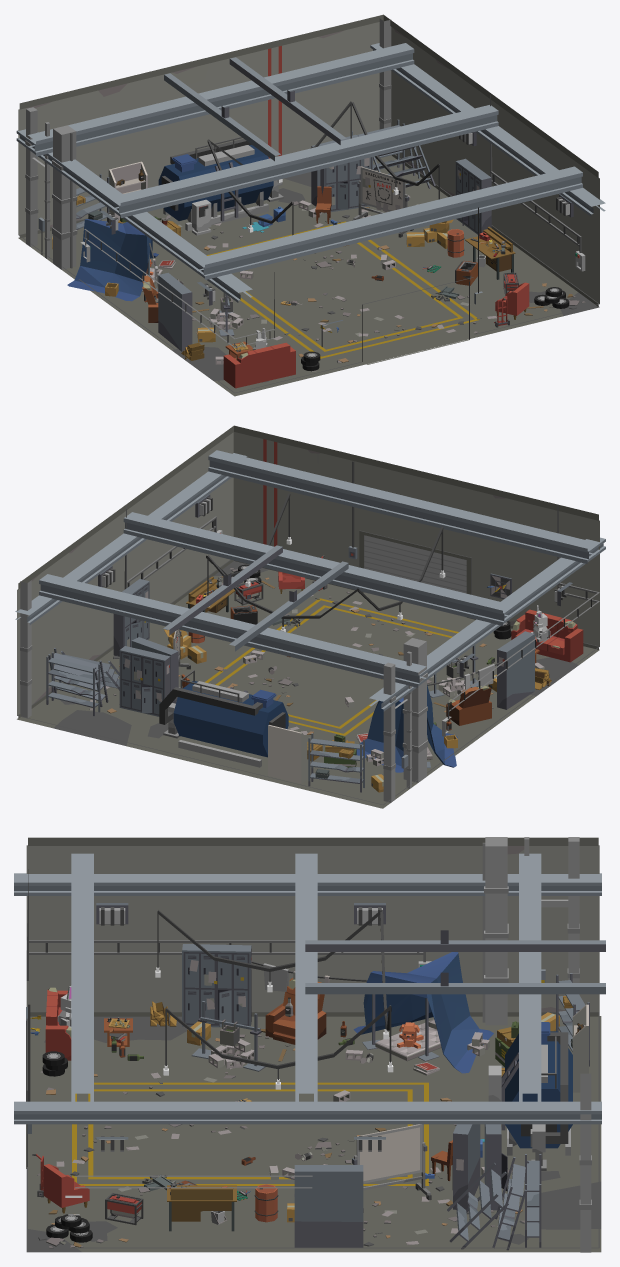
File: garage.glb
3 views of the same model, one above another, from view 1: azimuth 30°, elevation 25°; view 2: azimuth 150°, elevation 25°; view 3: azimuth 270°, elevation 25° (orthographic). The views are drawn at different scales.
Parts seen in each view (by area): view 1: AI_Env_Wall_Full, AI_Env_Floor_Full, AI_Env_Roof_Beam_Full, AI_Prop_Boiler, AI_Prop_Makeshift_Tent_08, AI_Prop_Couch_Damaged_02, AI_Prop_Lockers_05, AI_Prop_Whiteboard, AI_Prop_Lockers_04, AI_Prop_Lockers_02, SA_Prop_Workbench_01, AI_Prop_Shelf_01_Broken (+9 smaller); view 2: AI_Env_Wall_Full, AI_Env_Roof_Beam_Full, AI_Env_Floor_Full, AI_Prop_Boiler, AI_Prop_Lockers_01, AI_Prop_Shelf_01_Broken, AI_Prop_Makeshift_Tent_08, AI_Prop_Lockers_05, AI_Prop_Shelf_Bottles, AI_Prop_Couch_Damaged_02, AI_Prop_Shelf_01, AI_Prop_Lockers_02 (+8 smaller); view 3: AI_Env_Floor_Full, AI_Env_Wall_Full, AI_Env_Roof_Beam_Full, AI_Prop_Makeshift_Tent_08, AI_Prop_Lockers_02, AI_Prop_Boiler, AI_Prop_Lockers_05, AI_Prop_Shelf_01_Broken, AI_Prop_Whiteboard, SA_Prop_Workbench_01, AI_Prop_Lockers_04, AI_Prop_Chair_Damaged_04 (+21 smaller).
Boxes of the visible parts, x1,y1,x2,y2 form: AI_Env_Wall_Full: [18, 14, 599, 393]; AI_Env_Floor_Full: [18, 155, 599, 396]; AI_Env_Roof_Beam_Full: [16, 43, 605, 302]; AI_Prop_Boiler: [158, 134, 283, 235]; AI_Prop_Makeshift_Tent_08: [67, 219, 158, 301]; AI_Prop_Couch_Damaged_02: [223, 342, 295, 388]; AI_Prop_Lockers_05: [158, 272, 192, 351]; AI_Prop_Whiteboard: [352, 166, 413, 237]; AI_Prop_Lockers_04: [320, 157, 372, 213]; AI_Prop_Lockers_02: [455, 158, 491, 235]; SA_Prop_Workbench_01: [465, 226, 515, 279]; AI_Prop_Shelf_01_Broken: [352, 119, 435, 188]; AI_Env_Wall_Full: [17, 425, 599, 805]; AI_Env_Roof_Beam_Full: [15, 450, 605, 711]; AI_Env_Floor_Full: [17, 561, 599, 808]; AI_Prop_Boiler: [159, 670, 288, 767]; AI_Prop_Lockers_01: [119, 646, 170, 716]; AI_Prop_Shelf_01_Broken: [46, 648, 119, 715]; AI_Prop_Makeshift_Tent_08: [356, 684, 457, 772]; AI_Prop_Lockers_05: [497, 631, 534, 709]; AI_Prop_Shelf_Bottles: [268, 725, 307, 783]; AI_Prop_Couch_Damaged_02: [511, 609, 583, 662]; AI_Prop_Shelf_01: [308, 733, 364, 792]; AI_Prop_Lockers_02: [113, 579, 149, 656]; AI_Env_Floor_Full: [26, 1016, 601, 1252]; AI_Env_Wall_Full: [26, 837, 599, 1252]; AI_Env_Roof_Beam_Full: [14, 853, 605, 1124]; AI_Prop_Makeshift_Tent_08: [353, 952, 493, 1073]; AI_Prop_Lockers_02: [294, 1165, 363, 1247]; AI_Prop_Boiler: [488, 1022, 572, 1170]; AI_Prop_Lockers_05: [182, 944, 251, 1027]; AI_Prop_Shelf_01_Broken: [447, 1154, 541, 1250]; AI_Prop_Whiteboard: [352, 1124, 431, 1212]; SA_Prop_Workbench_01: [167, 1180, 236, 1231]; AI_Prop_Lockers_04: [452, 1124, 480, 1209]; AI_Prop_Chair_Damaged_04: [265, 978, 326, 1044].
Size of the model in its own units: 18.37 by 6.44 by 18.52.
Materials: 3 (2 with a texture image).
